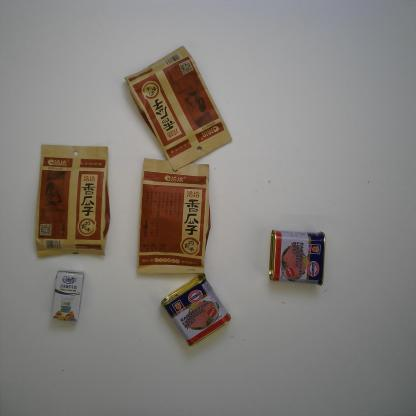Canned Food: (155, 273, 234, 351), (266, 227, 328, 287)
Dried Food: (122, 43, 233, 175), (33, 143, 113, 261), (135, 157, 213, 278)
Milk: (49, 268, 87, 327)
